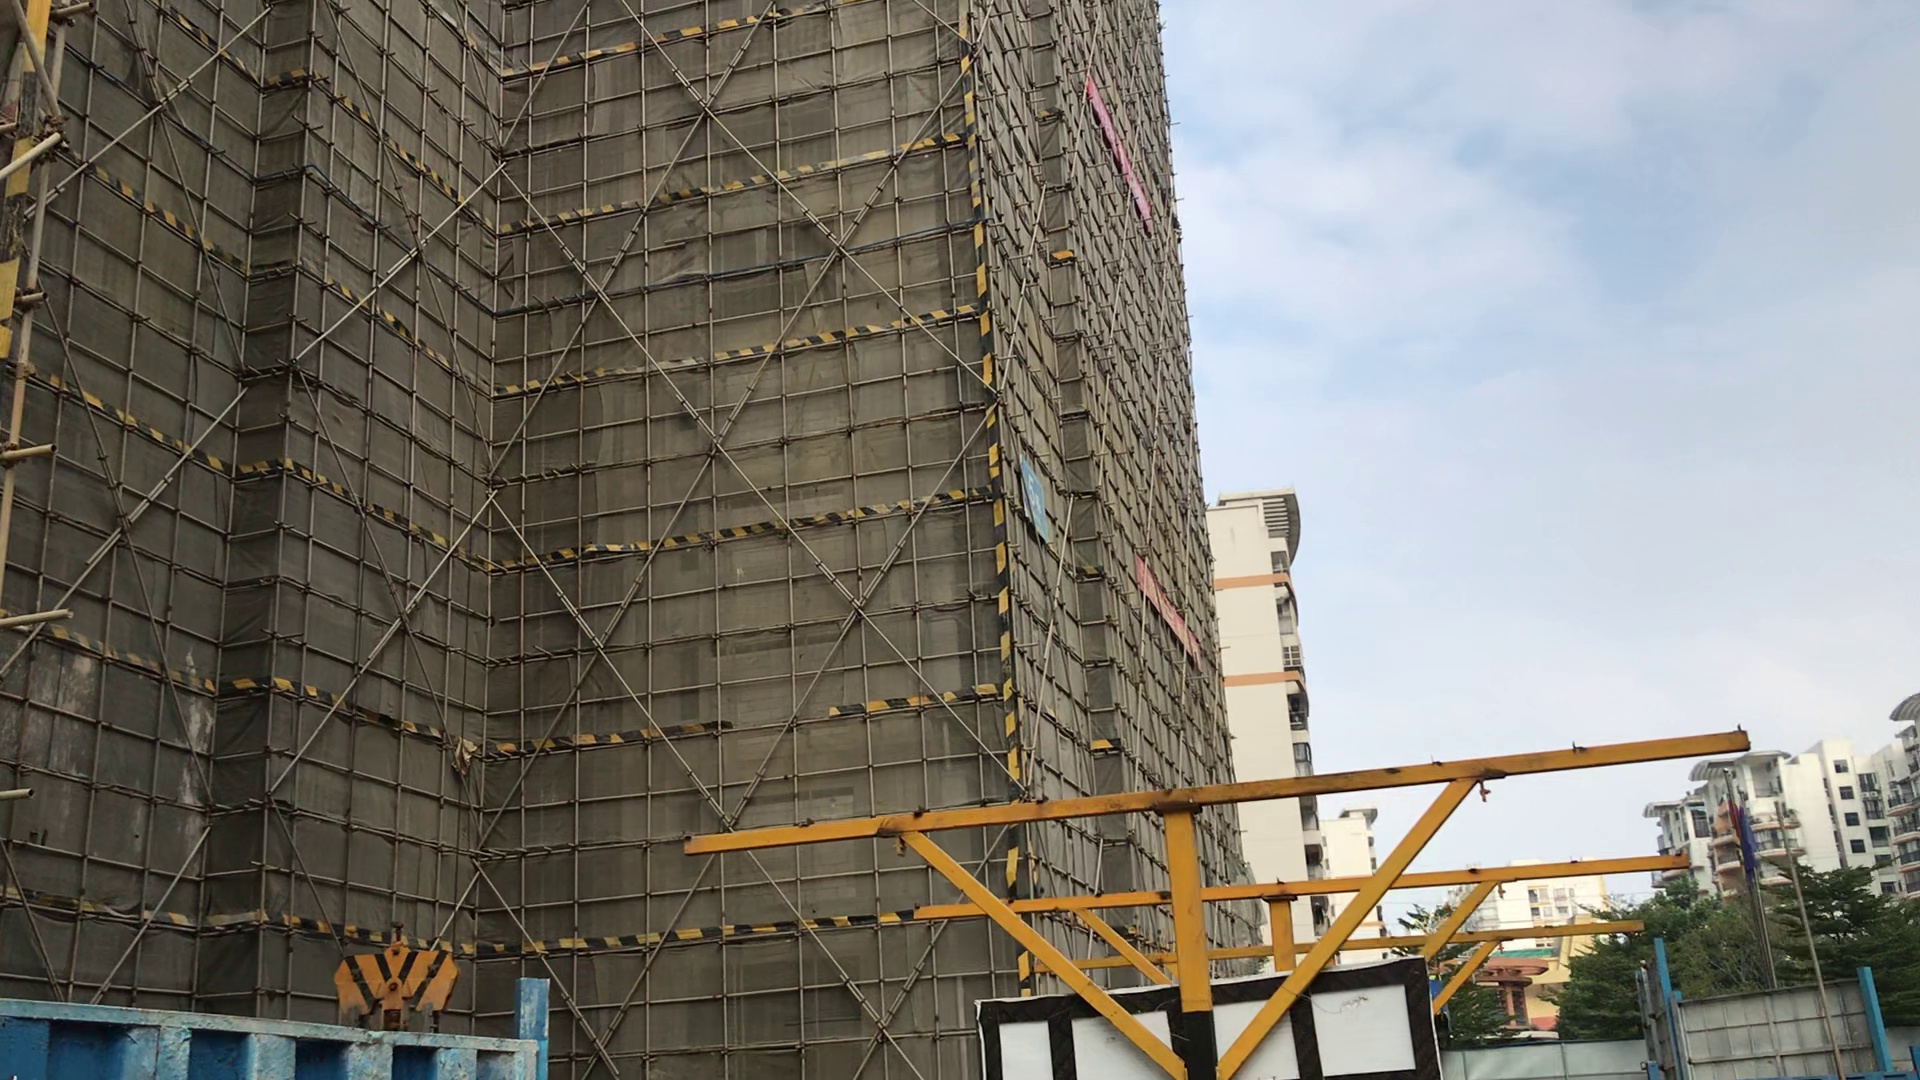hook: (314, 916, 469, 1029)
slogan: (1127, 539, 1211, 679), (1004, 443, 1068, 550)
